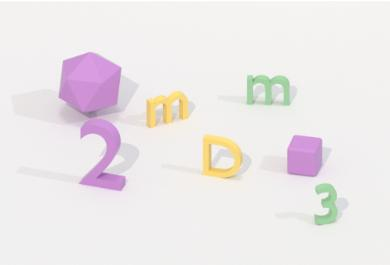0-KhoiVuong: (282, 131, 328, 180)
0-TronCanh: (53, 49, 127, 115)
2: (75, 117, 130, 194)
3: (310, 181, 341, 229)
D: (200, 130, 245, 181)
m: (141, 86, 193, 132), (244, 71, 295, 109)
